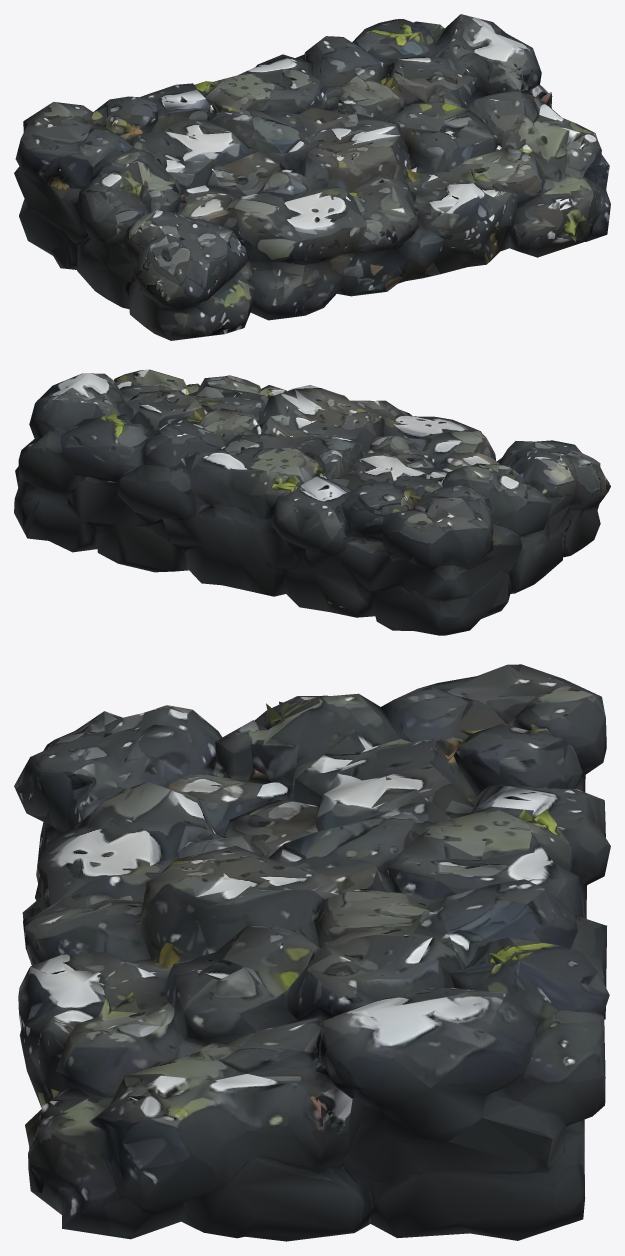
File: gnd_alpine_lichen_rocks.fbx
3 renders of one model, top to bottom at view 1: azimuth 30°, elevation 25°; view 2: azimuth 150°, elevation 25°; view 3: azimuth 270°, elevation 25°, orthographic. The views are drawn at different scales.
Visible parts, largest first — view 1: gnd_alpine_lichen_rocks_LOD0; view 2: gnd_alpine_lichen_rocks_LOD0; view 3: gnd_alpine_lichen_rocks_LOD0.
Part boxes in pixels (x1,y1,x2,y2): gnd_alpine_lichen_rocks_LOD0: (14, 14, 610, 340); gnd_alpine_lichen_rocks_LOD0: (14, 369, 610, 635); gnd_alpine_lichen_rocks_LOD0: (14, 664, 610, 1241).
Size of what is drawn, in the model's own units: 0.98 by 0.2562 by 0.6094.
